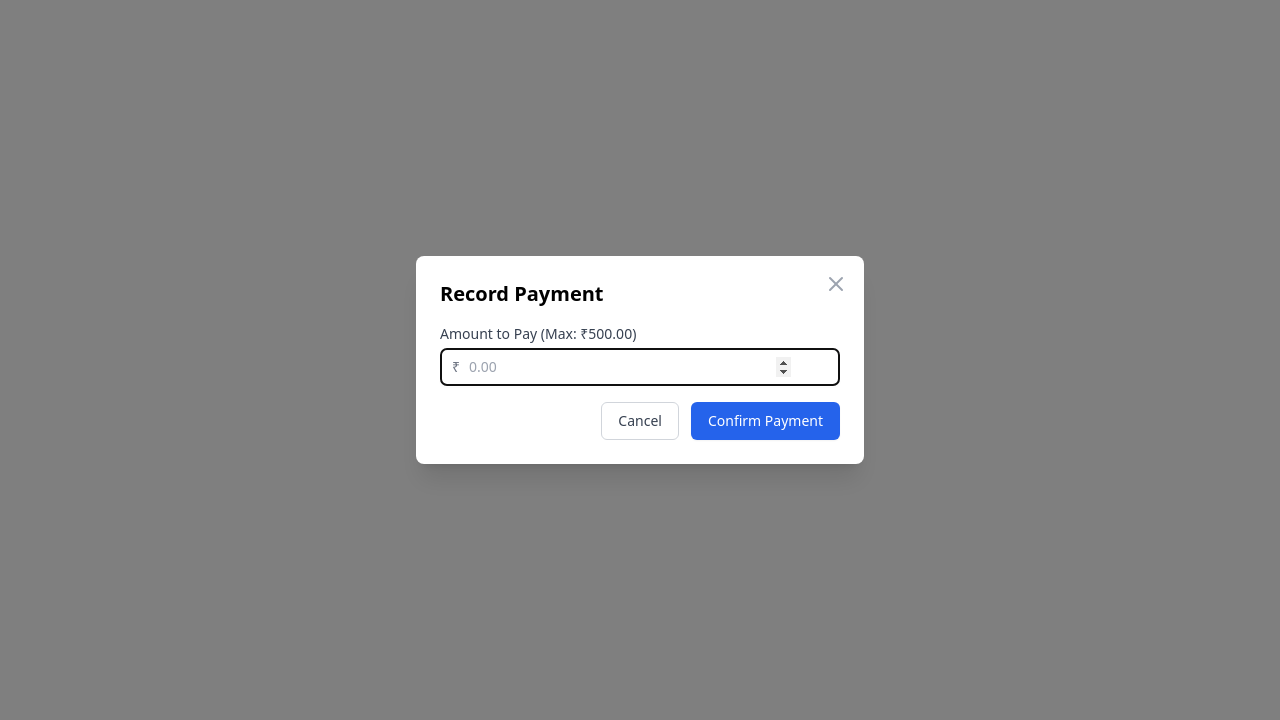
Test: AddPaymentModal › does not submit an amount above the balance
The width and height of the screenshot is (1280, 720).
Type "600" into the number field at (640, 367), box [440,348,840,386]
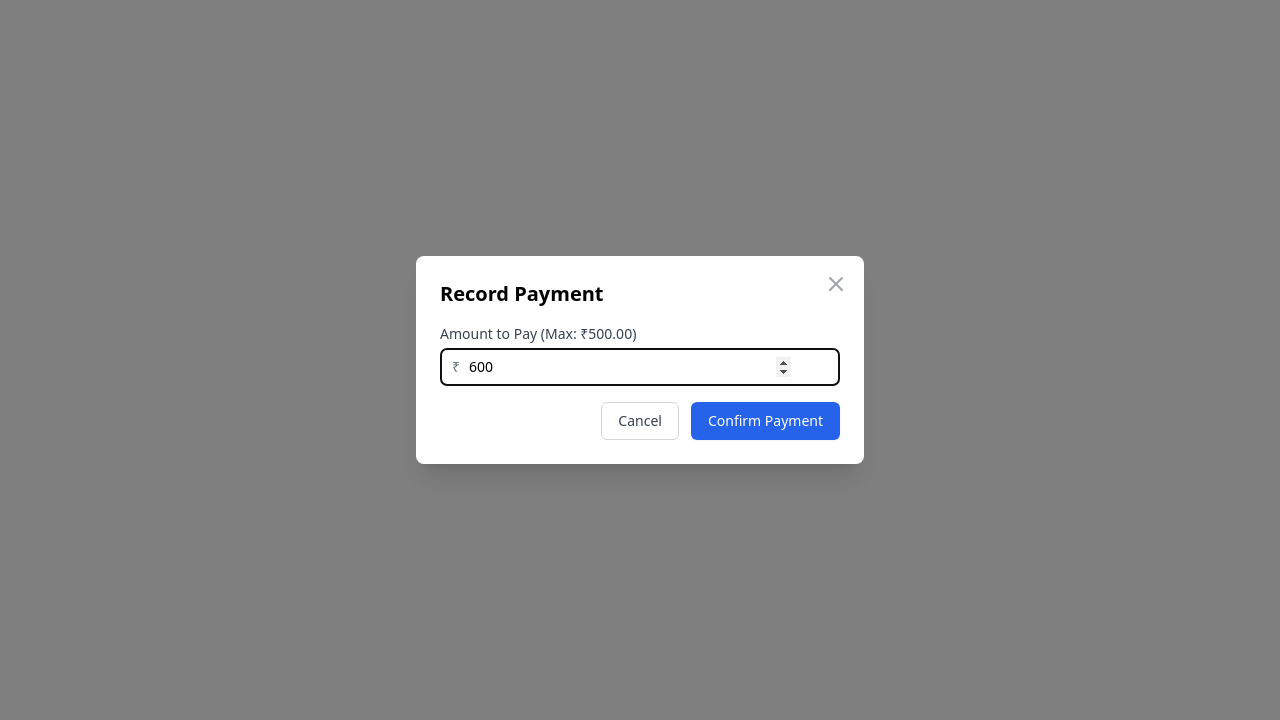
Click the button "Confirm Payment" at (765, 421), box [691,402,840,440]
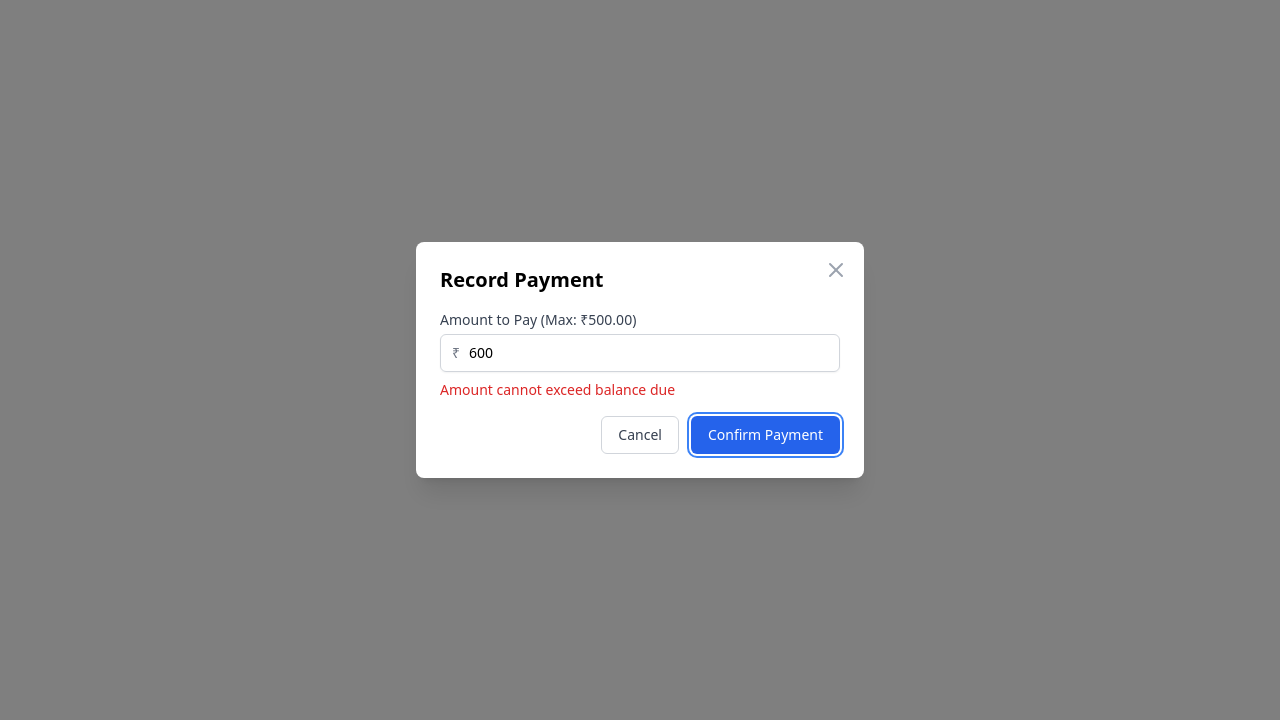
Expected: the text "Amount cannot exceed balance due" is shown, [440,380,675,399]
